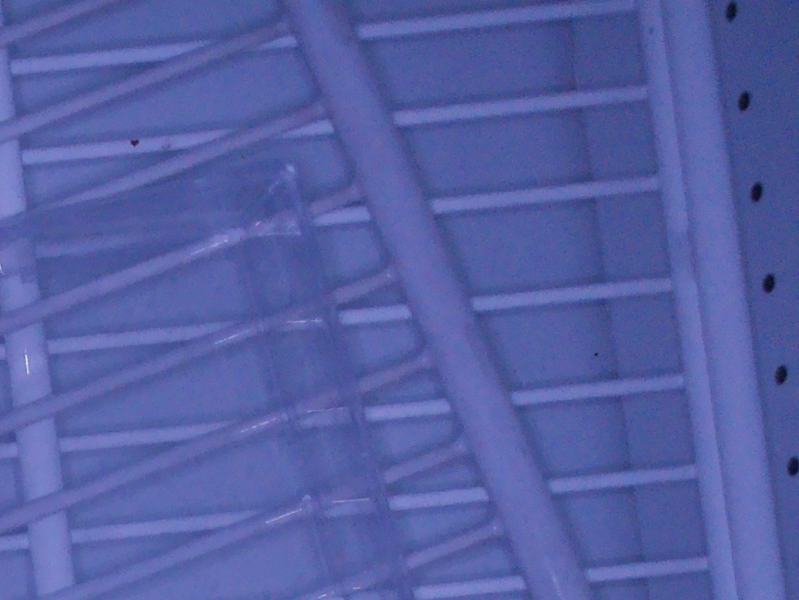plate: (1, 154, 410, 600)
